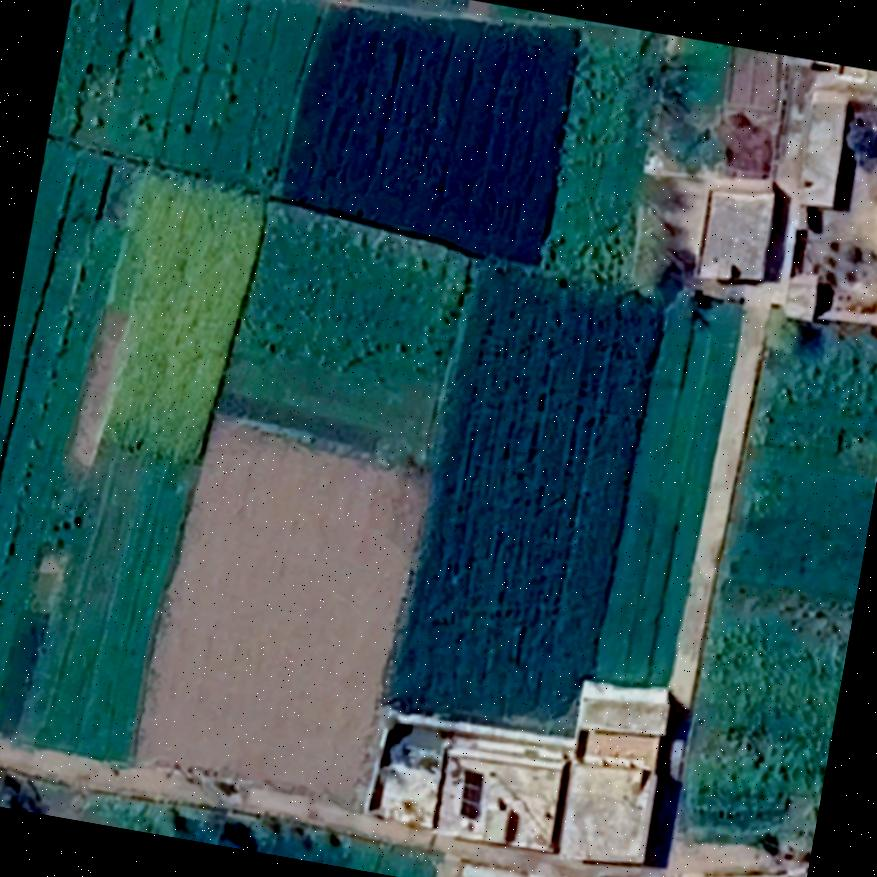Solarpanel: (454, 766, 489, 824)
